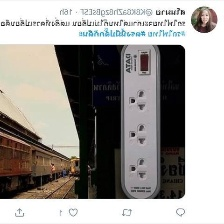three_eye_plug: (117, 43, 164, 198)
